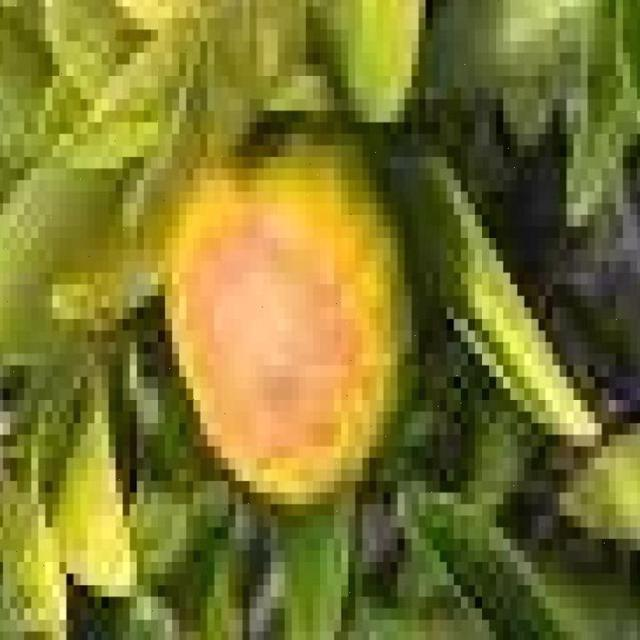Sunscald Fruit: (112, 136, 239, 328)
